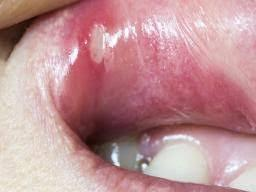Ulcer: (78, 15, 130, 60)
